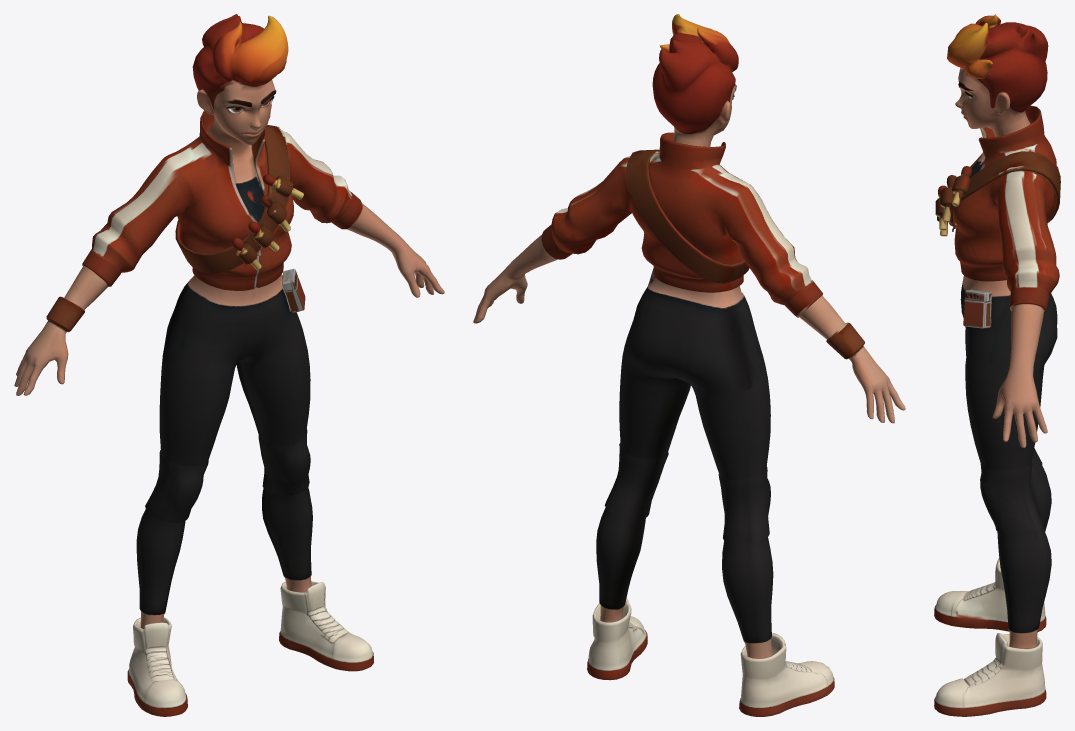
The model's file is vif_v1.glb.
3 renders of one model, left to right at view 1: azimuth 30°, elevation 25°; view 2: azimuth 150°, elevation 25°; view 3: azimuth 270°, elevation 25°, orthographic.
Visible parts, largest first — view 1: vif_v1; view 2: vif_v1; view 3: vif_v1.
Part boxes in pixels (left/top/right/bottom): vif_v1: left=14, top=14, right=444, bottom=716; vif_v1: left=473, top=14, right=905, bottom=716; vif_v1: left=934, top=14, right=1060, bottom=716.
Bounding box in the file's own units: 0.6743 × 0.9995 × 0.1763.
1 material, 1 textured.
